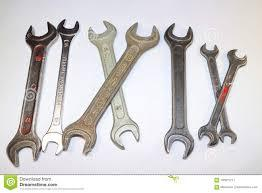wrench: (60, 20, 160, 155), (4, 20, 58, 167), (87, 19, 142, 151), (40, 18, 80, 157), (196, 46, 249, 147), (162, 21, 194, 160), (198, 41, 238, 145)
